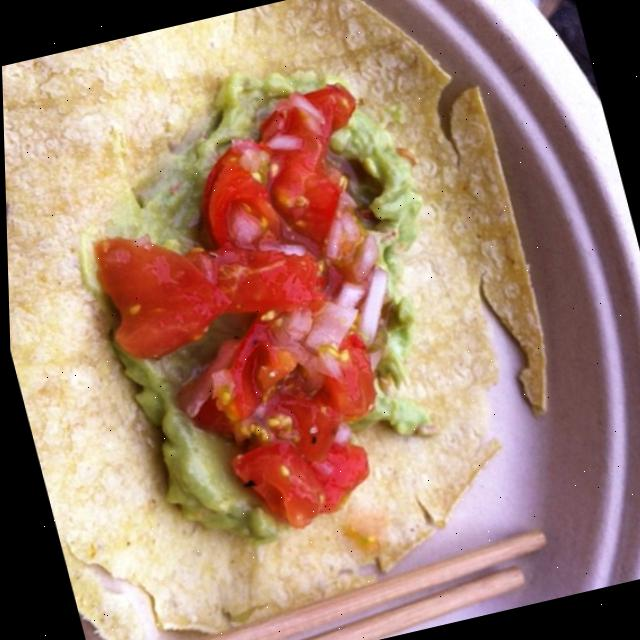面包点心: (0, 0, 615, 639)
